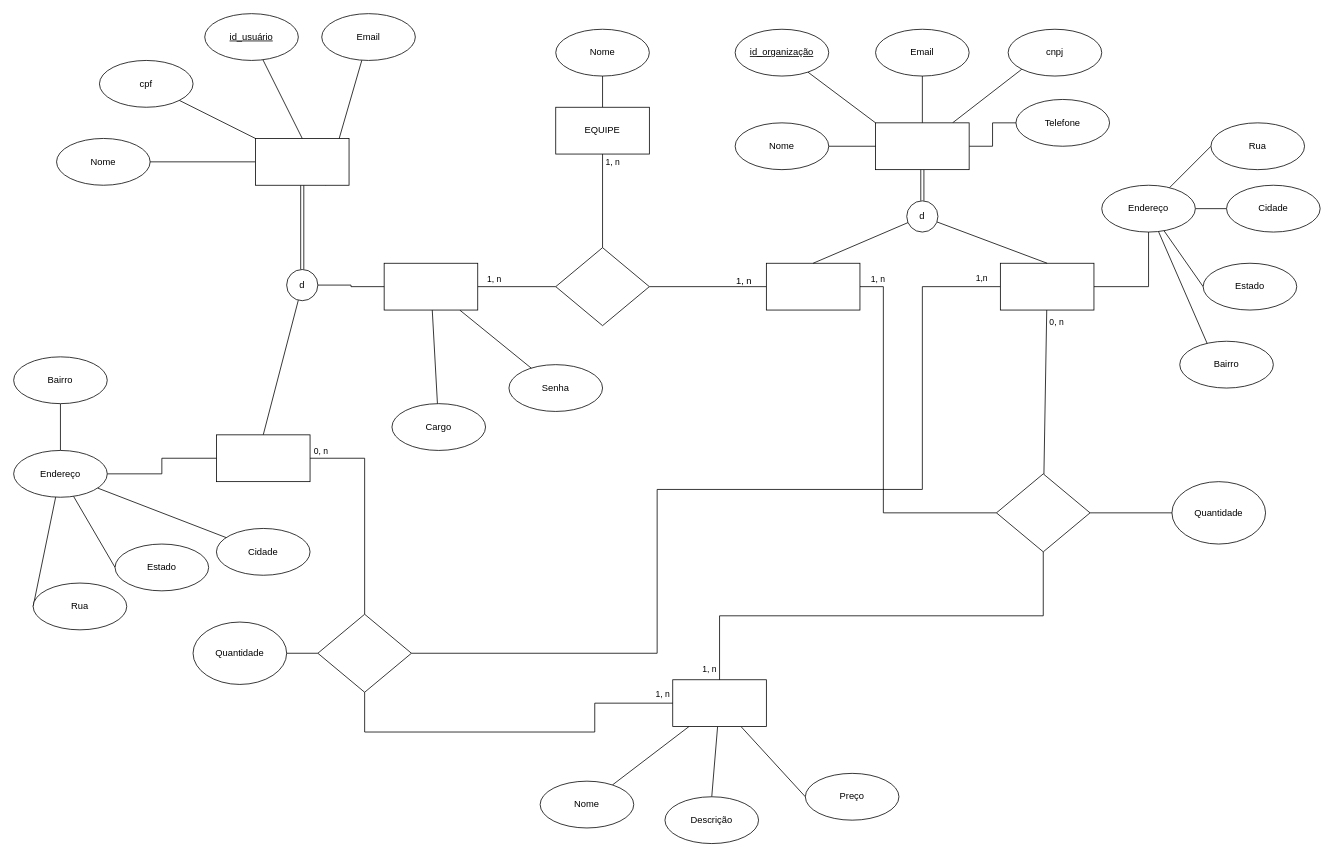
The diagram is 1334 pixels wide and 857 high, and some of its shapes have lost their labels. Here are the shapes that lost their labels. From the top down, the centre of each, then its label:
At pixel 302 161: "USUÁRIO".
At pixel 922 146: "ORGANIZAÇÃO".
At pixel 430 286: "FUNCIONÁRIO".
At pixel 602 286: "Trabalha em".
At pixel 813 286: "EMPRESA".
At pixel 1047 286: "FORNECEDOR".
At pixel 263 458: "CLIENTE".
At pixel 1043 512: "Fornece".
At pixel 364 652: "Compra".
At pixel 719 703: "PRODUTO".
